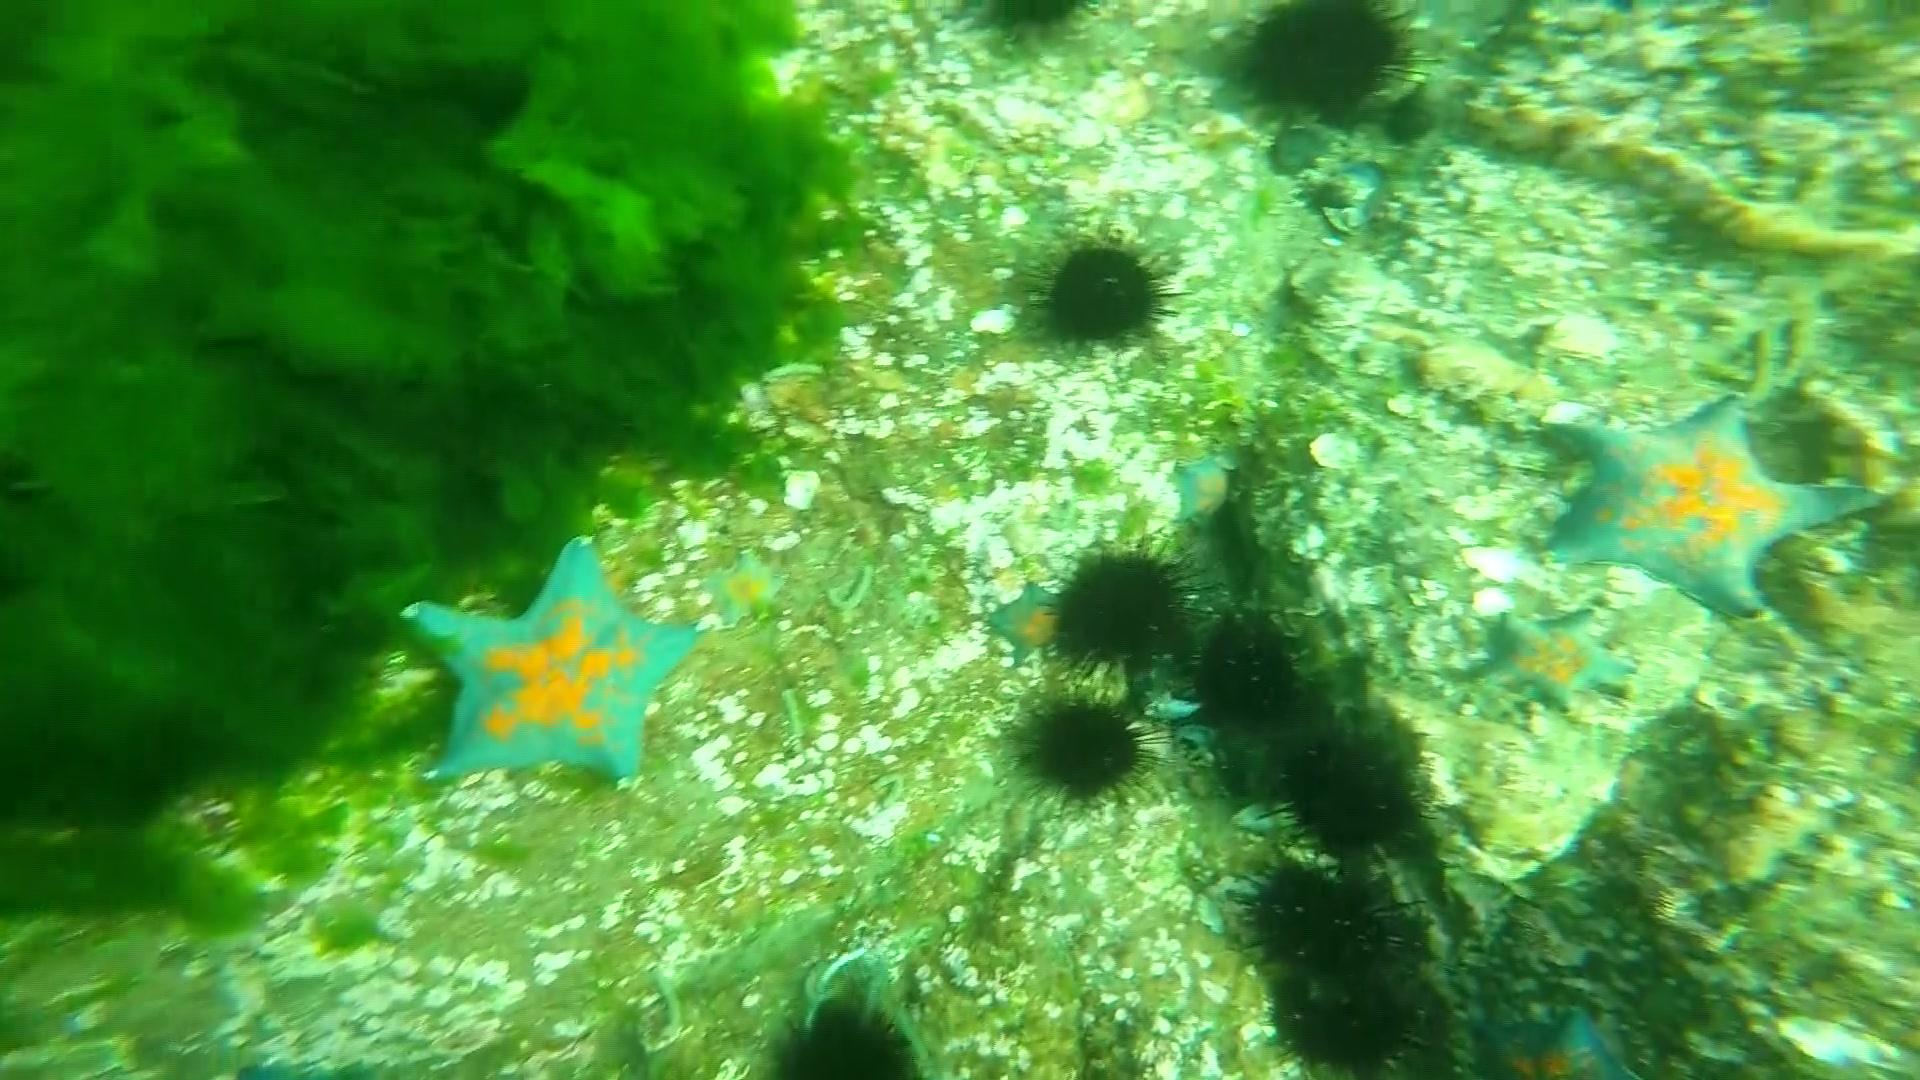echinus: (1221, 1, 1451, 125), (1043, 534, 1225, 687), (1251, 727, 1436, 874), (1232, 853, 1432, 986), (1015, 225, 1200, 353), (1002, 686, 1174, 814), (1265, 976, 1455, 1080), (1176, 604, 1317, 744), (760, 992, 930, 1080), (976, 1, 1093, 40)
starfish: (1531, 388, 1890, 624), (396, 529, 705, 789), (1481, 600, 1636, 717), (1531, 1004, 1648, 1080), (982, 576, 1073, 665), (702, 553, 790, 632), (1175, 452, 1234, 525)
